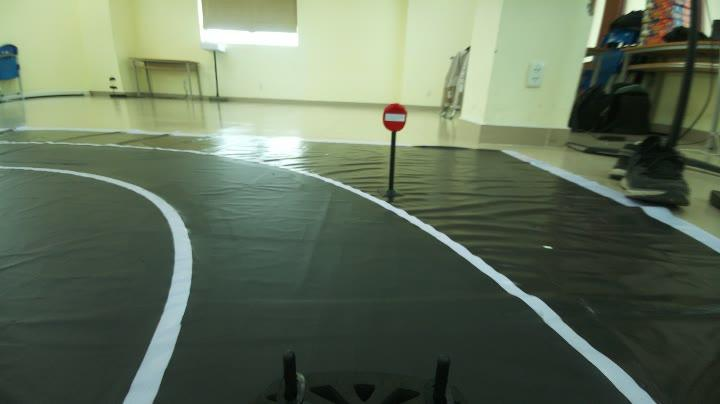no_entry: (378, 98, 416, 136)
